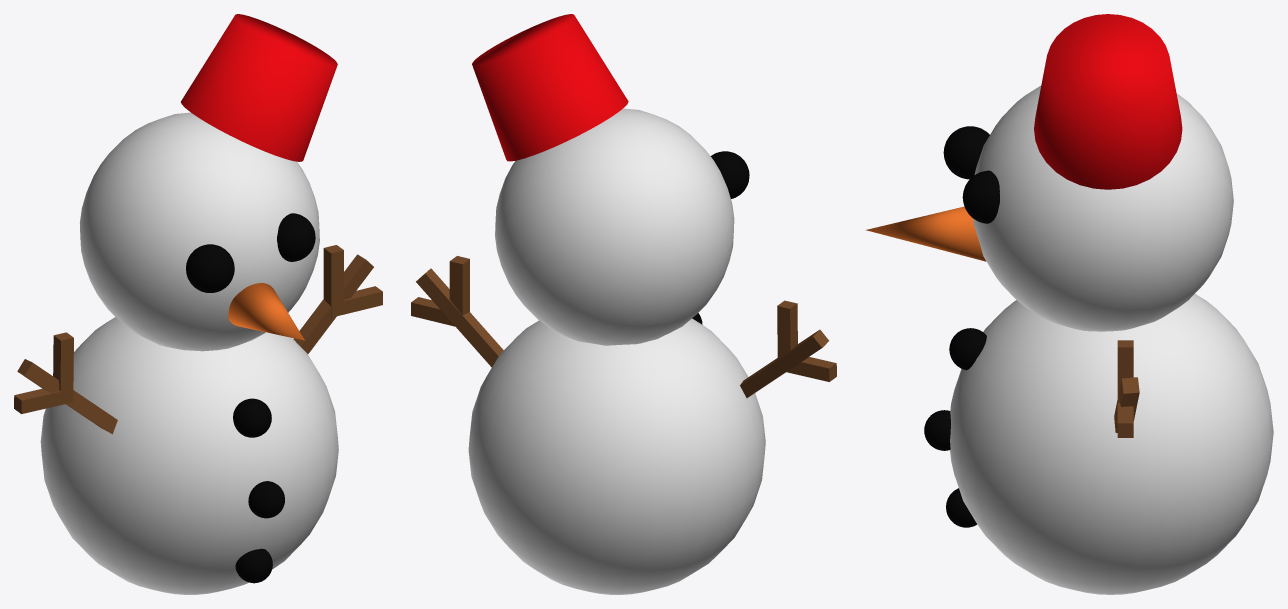
The picture shows the model from 3 angles, left to right: view 1: azimuth 30°, elevation 25°; view 2: azimuth 150°, elevation 25°; view 3: azimuth 270°, elevation 25°; orthographic projection. The views are drawn at different scales.
Visible parts, largest first — view 1: 球, 球.001, 円柱, 立方体.004, 立方体, 円錐, 球.002, 球.003, 球.005, 球.006, 球.004; view 2: 球, 球.001, 円柱, 立方体.004, 立方体, 球.002; view 3: 球, 球.001, 円柱, 円錐, 立方体.004, 球.002, 球.003, 球.005, 球.006, 球.004.
Part boxes in pixels (x1,y1,x2,y2): 球: [40, 317, 338, 594]; 球.001: [80, 112, 319, 351]; 円柱: [181, 14, 337, 161]; 立方体.004: [293, 245, 382, 353]; 立方体: [14, 332, 117, 434]; 円錐: [228, 283, 304, 340]; 球.002: [186, 244, 234, 292]; 球.003: [277, 213, 315, 261]; 球.005: [233, 398, 271, 437]; 球.006: [248, 481, 284, 518]; 球.004: [235, 548, 272, 583]; 球: [468, 318, 765, 594]; 球.001: [495, 108, 734, 345]; 円柱: [472, 14, 628, 161]; 立方体.004: [411, 256, 503, 367]; 立方体: [740, 300, 836, 397]; 球.002: [710, 151, 749, 198]; 球: [950, 294, 1273, 594]; 球.001: [973, 85, 1233, 331]; 円柱: [1034, 14, 1182, 189]; 円錐: [866, 206, 986, 261]; 立方体.004: [1114, 340, 1139, 437]; 球.002: [943, 126, 989, 179]; 球.003: [962, 170, 999, 223]; 球.005: [949, 328, 986, 370]; 球.006: [924, 410, 950, 450]; 球.004: [946, 488, 977, 527].
Bounding box in the file's own units: 0.9659 × 1.29 × 0.8024.
